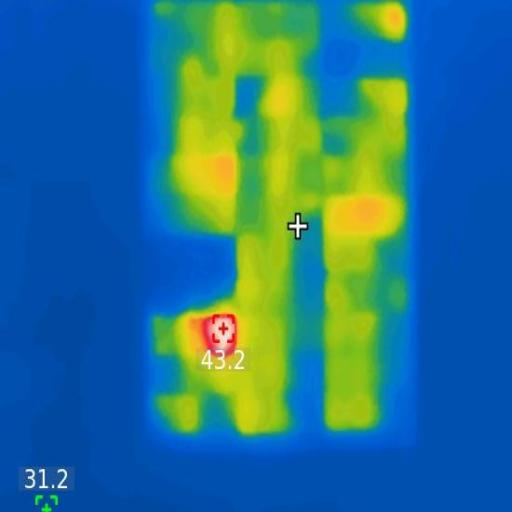hotspot: (199, 311, 237, 359)
